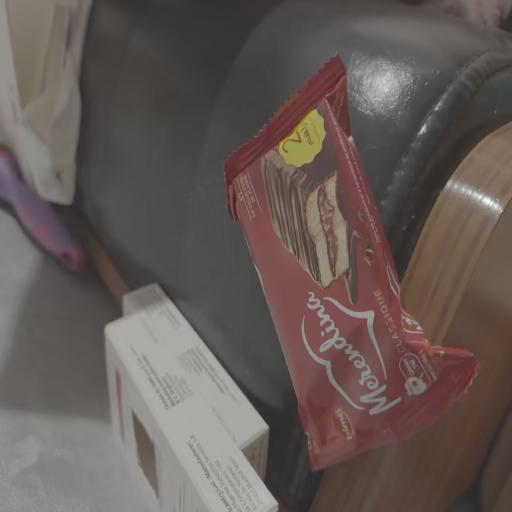merendina: (183, 35, 487, 457)
